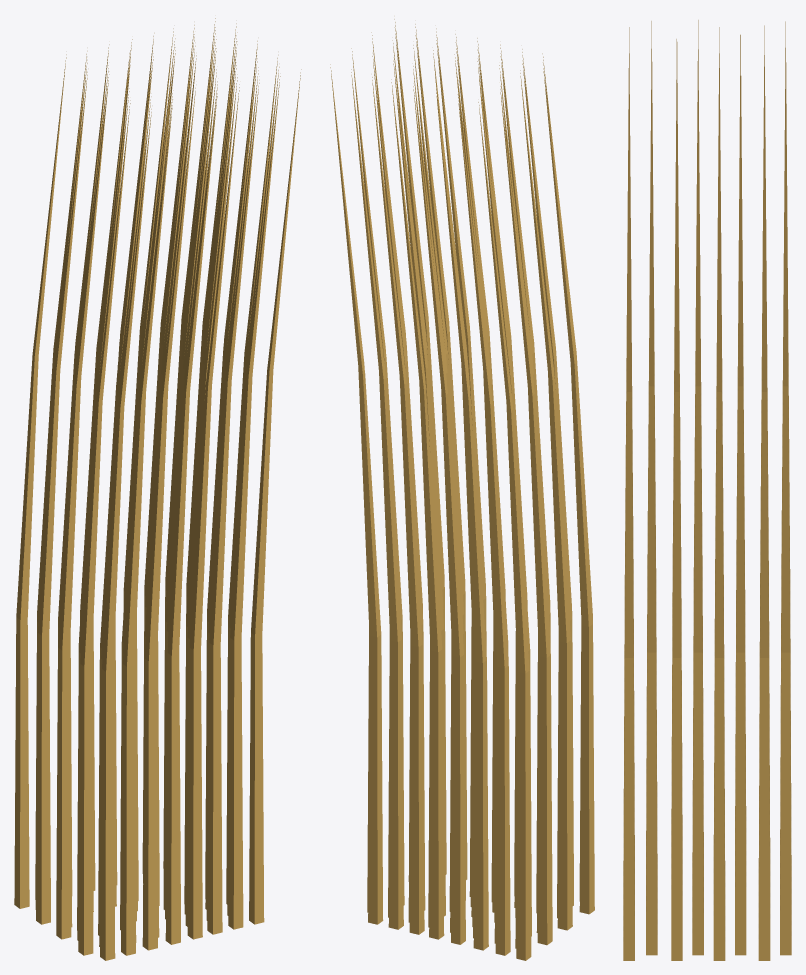
File: Herbes_Hautes.fbx
3 renders of one model, left to right at view 1: azimuth 30°, elevation 25°; view 2: azimuth 150°, elevation 25°; view 3: azimuth 270°, elevation 25°, orthographic. The views are drawn at different scales.
Parts seen in each view (by area): view 1: Cube.032, Cube.007, Cube.036, Cube.034, Cube.037, Cube.038, Cube.033, Cube.039, Cube.035, Cube.063, Cube.047, Cube.055 (+40 smaller); view 2: Cube.060, Cube.056, Cube.059, Cube.007, Cube.061, Cube.063, Cube.055, Cube.062, Cube.058, Cube.047, Cube.057, Cube.049 (+44 smaller); view 3: Cube.011, Cube.003, Cube.043, Cube.059, Cube.035, Cube.019, Cube.027, Cube.051, Cube.005, Cube.029, Cube.061, Cube.021 (+16 smaller).
Boxes of the visible parts, bbox=[...] form: Cube.032: bbox=[187, 84, 239, 939]; Cube.007: bbox=[56, 86, 108, 939]; Cube.036: bbox=[165, 90, 217, 944]; Cube.034: bbox=[228, 76, 280, 929]; Cube.037: bbox=[142, 96, 194, 950]; Cube.038: bbox=[121, 102, 172, 955]; Cube.033: bbox=[207, 80, 259, 934]; Cube.039: bbox=[100, 109, 151, 960]; Cube.035: bbox=[249, 69, 301, 924]; Cube.063: bbox=[14, 54, 66, 908]; Cube.047: bbox=[78, 100, 130, 955]; Cube.055: bbox=[36, 72, 87, 924]; Cube.060: bbox=[414, 95, 465, 944]; Cube.056: bbox=[392, 90, 444, 939]; Cube.059: bbox=[331, 76, 383, 924]; Cube.007: bbox=[521, 81, 572, 930]; Cube.061: bbox=[437, 101, 488, 950]; Cube.063: bbox=[479, 110, 531, 960]; Cube.055: bbox=[500, 94, 552, 945]; Cube.062: bbox=[459, 109, 510, 955]; Cube.058: bbox=[352, 80, 403, 929]; Cube.047: bbox=[543, 65, 594, 914]; Cube.057: bbox=[372, 85, 424, 934]; Cube.049: bbox=[394, 69, 445, 916]; Cube.011: bbox=[671, 115, 682, 960]; Cube.003: bbox=[692, 96, 703, 955]; Cube.043: bbox=[646, 97, 657, 955]; Cube.059: bbox=[780, 98, 791, 955]; Cube.035: bbox=[623, 103, 634, 960]; Cube.019: bbox=[713, 103, 725, 960]; Cube.027: bbox=[758, 102, 770, 960]; Cube.051: bbox=[735, 111, 746, 955]; Cube.005: bbox=[692, 42, 703, 885]; Cube.029: bbox=[758, 47, 770, 891]; Cube.061: bbox=[780, 43, 791, 888]; Cube.021: bbox=[713, 49, 725, 893].
Bounding box in the file's own units: 152 × 586 × 101.
